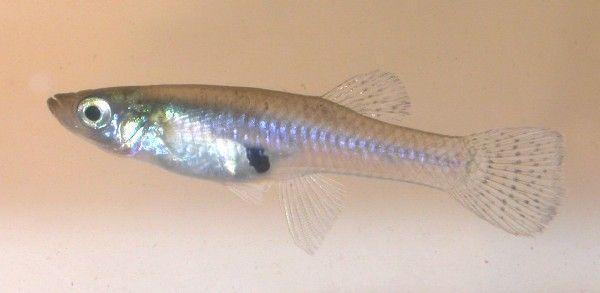Mosquito Fish: (47, 65, 568, 258)
